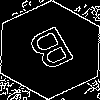B: (25, 25, 83, 81)
